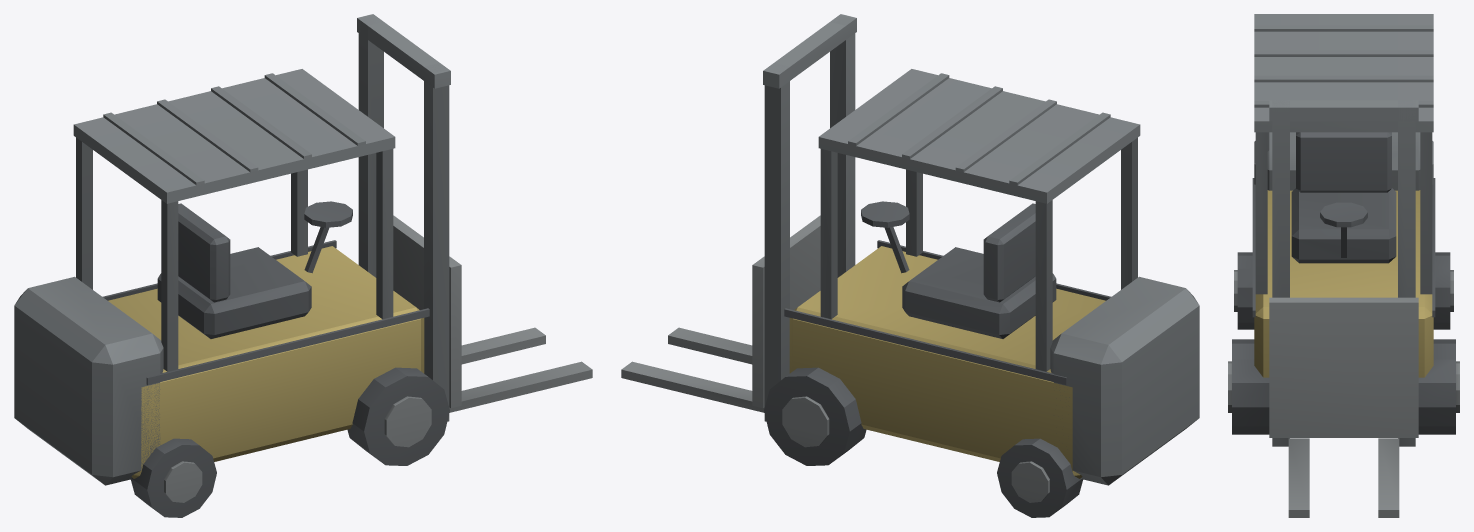
File: mil_forklift.glb
The picture shows the model from 3 angles, left to right: view 1: azimuth 30°, elevation 25°; view 2: azimuth 150°, elevation 25°; view 3: azimuth 270°, elevation 25°; orthographic projection. The views are drawn at different scales.
Parts seen in each view (by area): view 1: mil_forklift; view 2: mil_forklift; view 3: mil_forklift.
Boxes of the visible parts, x1,y1,x2,y2 form: mil_forklift: [14, 14, 592, 517]; mil_forklift: [621, 14, 1199, 517]; mil_forklift: [1228, 14, 1459, 517].
Bounding box in the file's own units: 3.8 × 2.6 × 1.55.
